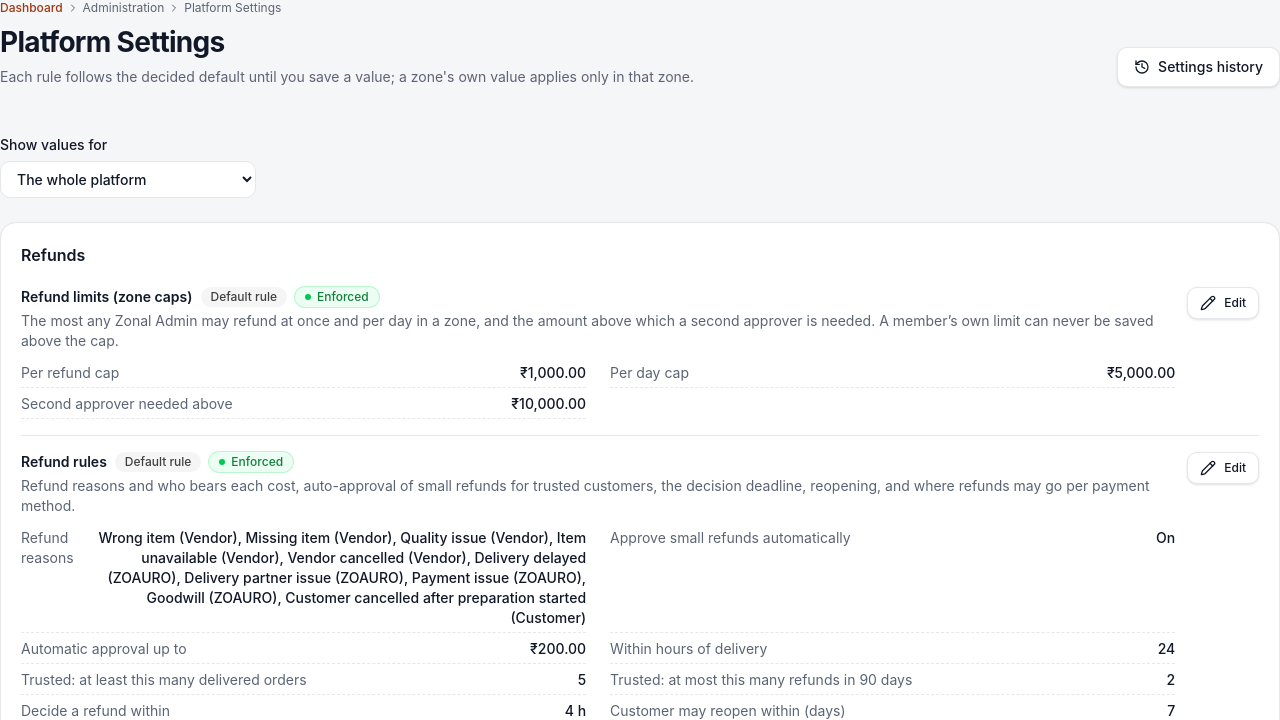
Platform Settings page › an invalid value is caught before anything is sent
Click the button with aria-label "Edit Refund limits (zone caps)" at (1223, 303), box [1187,287,1259,319]
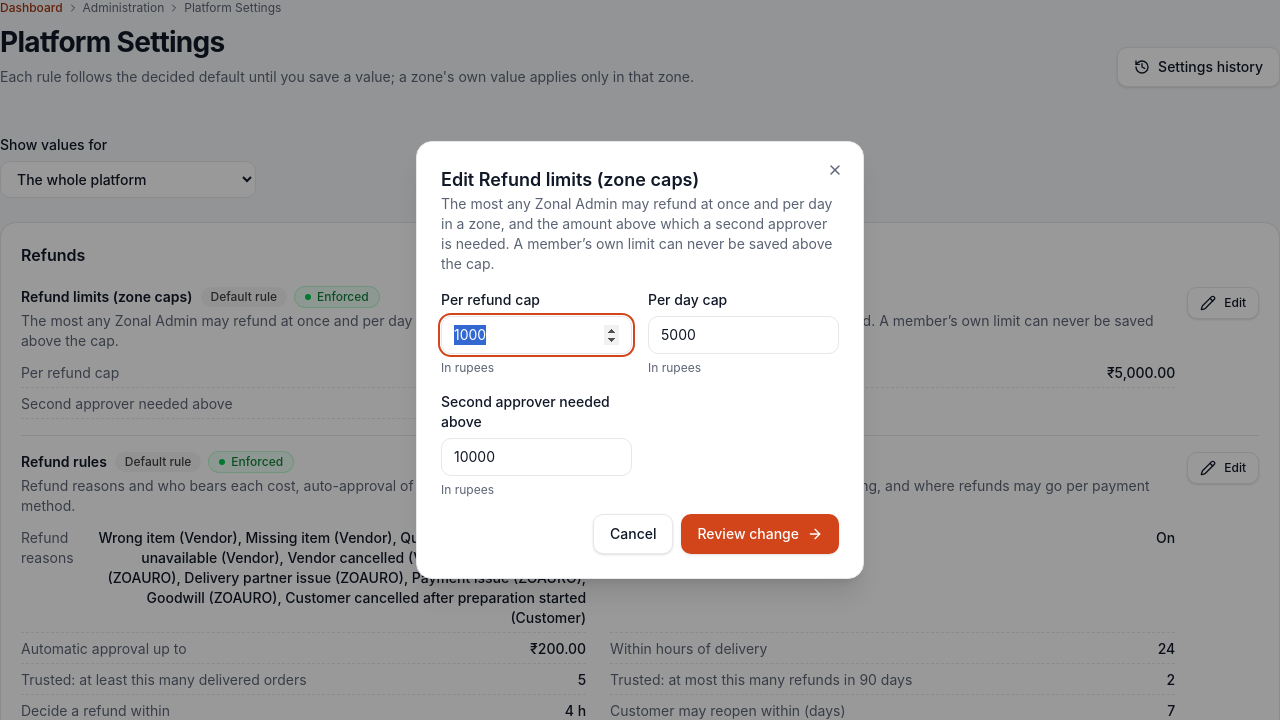
Replace the text in the number field labelled "Per day cap" with "10" at (744, 335), box [648,316,839,354]
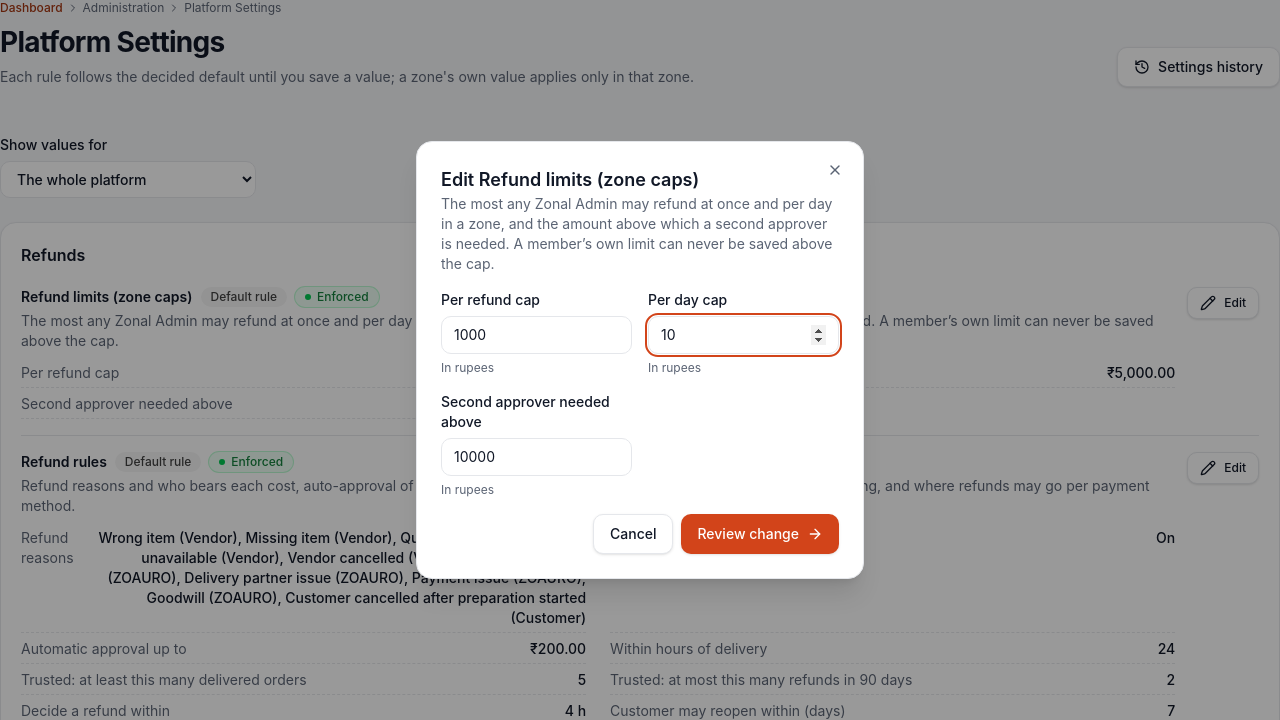
Click the button "Review change" at (760, 534), box [682,514,839,554]
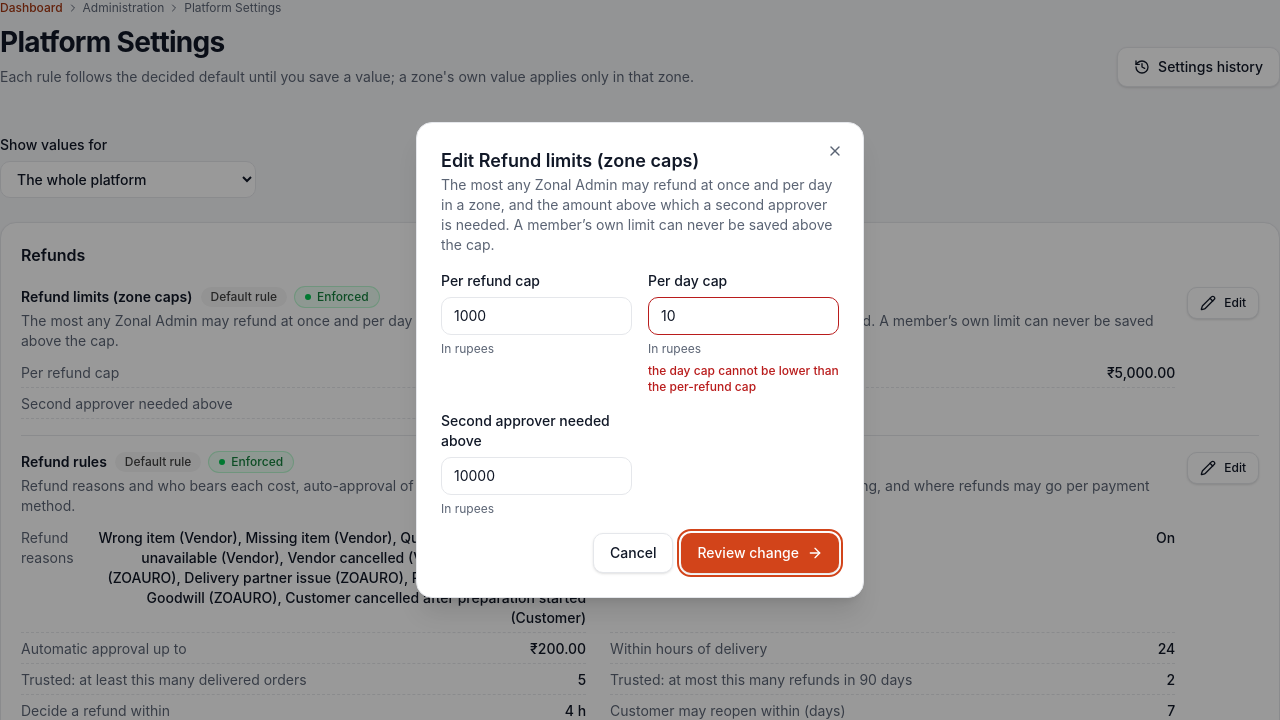
expect the text "the day cap cannot be lower than the per-refund cap" is shown: met, box [648,363,839,395]
